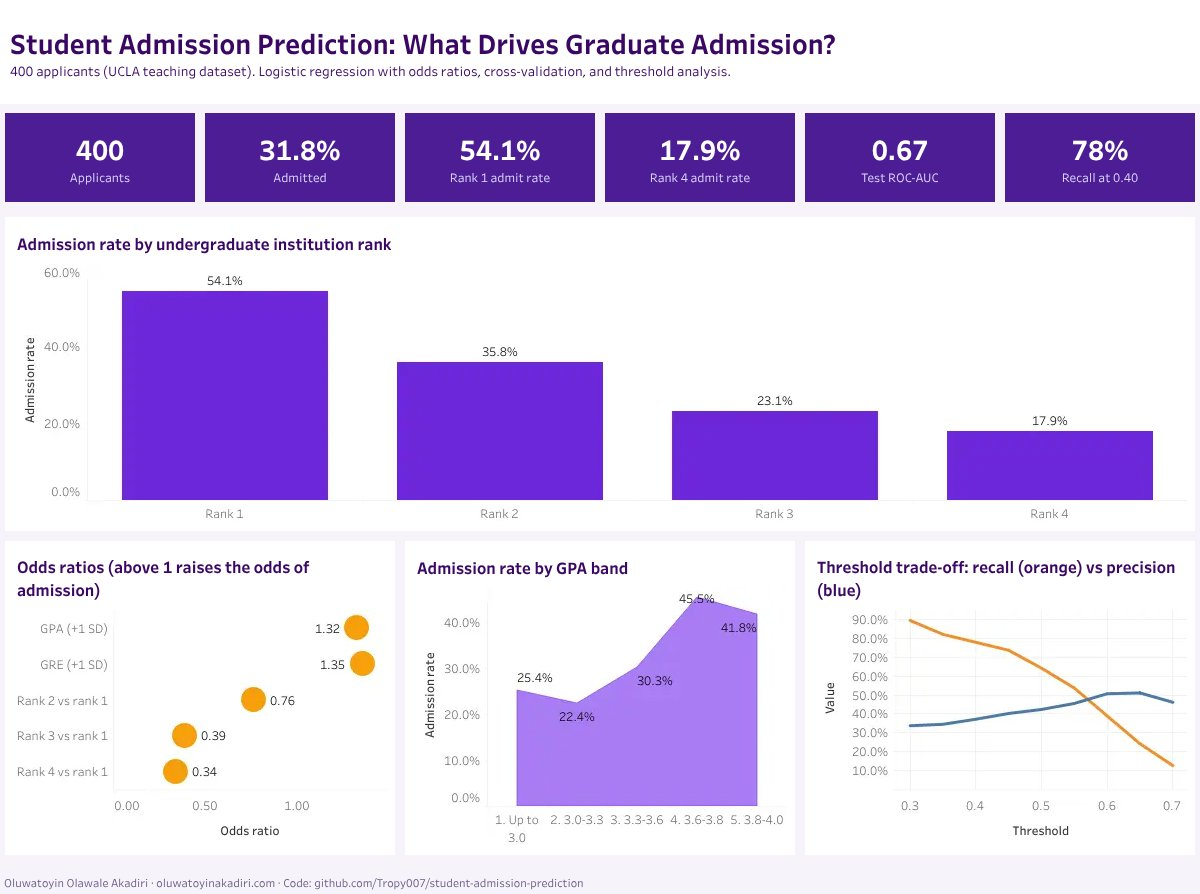

The page's visual inventory and layout, read from the dashboard file:
{"tool":"tableau","page":{"name":"Student Admission","canvas":[1200,900],"ordinal":0},"visuals":[{"type":"text","box":[0,0,1200,103.5]},{"type":"text","box":[0,108,200,99]},{"type":"text","box":[200,108,200,99]},{"type":"text","box":[400,108,200,99]},{"type":"text","box":[600,108,200,99]},{"type":"text","box":[800,108,200,99]},{"type":"text","box":[1000,108,200,99]},{"type":"worksheet","title":"By institution rank","mark":"Bar","rows":["Admission rate"],"cols":["Institution rank"],"box":[0,211.5,1200,324]},{"type":"worksheet","title":"Odds ratios","mark":"Circle","rows":["Factor"],"cols":["Odds ratio"],"box":[0,535.5,400,324]},{"type":"worksheet","title":"By GPA","mark":"Area","rows":["Admission rate"],"cols":["GPA band"],"box":[400,535.5,400,324]},{"type":"worksheet","title":"Thresholds","mark":"Line","rows":["Value"],"cols":["Threshold"],"box":[800,535.5,400,324]},{"type":"text","box":[0,864,1200,36]}]}

Visuals, with their boxes in screenshot pixels (x1, y1, x2, y2), scaled from the page's 1200x900 canvas onto the 1200x894 screenshot:
text: {"x1": 0, "y1": 0, "x2": 1199, "y2": 103}
text: {"x1": 0, "y1": 107, "x2": 200, "y2": 206}
text: {"x1": 200, "y1": 107, "x2": 400, "y2": 206}
text: {"x1": 400, "y1": 107, "x2": 600, "y2": 206}
text: {"x1": 600, "y1": 107, "x2": 800, "y2": 206}
text: {"x1": 800, "y1": 107, "x2": 1000, "y2": 206}
text: {"x1": 1000, "y1": 107, "x2": 1199, "y2": 206}
"By institution rank" worksheet (Bar marks): {"x1": 0, "y1": 210, "x2": 1199, "y2": 532}
"Odds ratios" worksheet (Circle marks): {"x1": 0, "y1": 532, "x2": 400, "y2": 854}
"By GPA" worksheet (Area marks): {"x1": 400, "y1": 532, "x2": 800, "y2": 854}
"Thresholds" worksheet (Line marks): {"x1": 800, "y1": 532, "x2": 1199, "y2": 854}
text: {"x1": 0, "y1": 858, "x2": 1199, "y2": 893}
